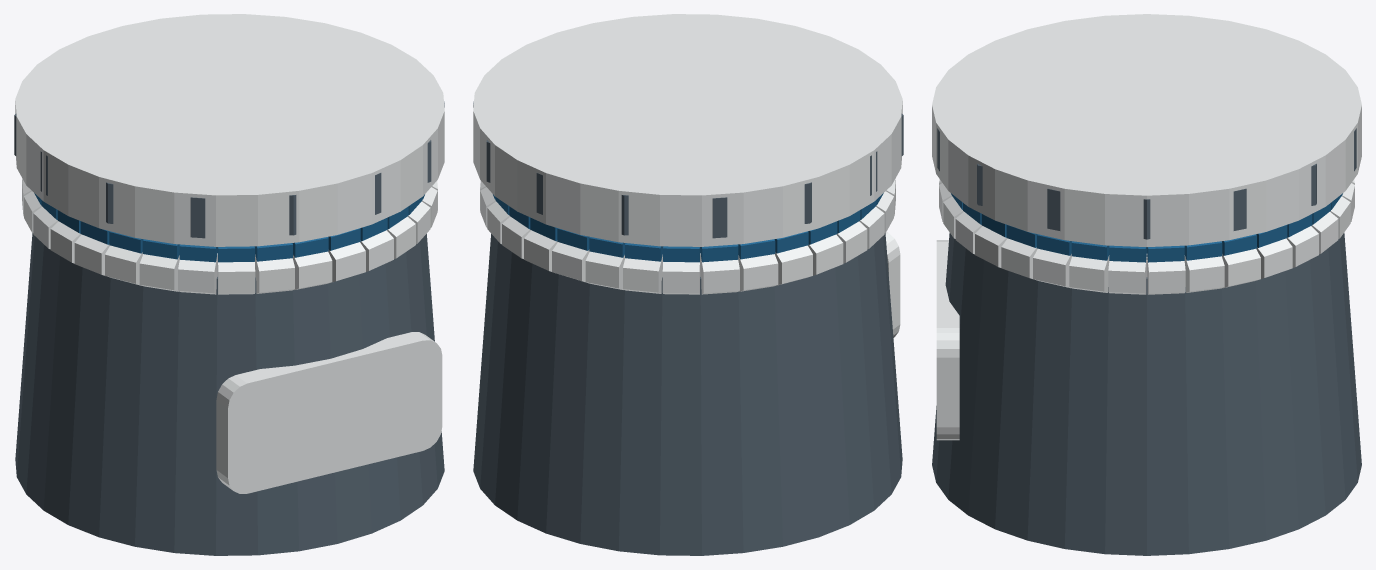
File: sealjar.glb
3 views of the same model, side by side, from view 1: azimuth 30°, elevation 25°; view 2: azimuth 150°, elevation 25°; view 3: azimuth 270°, elevation 25° (orthographic).
Parts seen in each view (by area): view 1: jar base, lid, label, shoulder11, shoulder9, shoulder12, shoulder10, shoulder8, shoulder13, shoulder7, shoulder14, shoulder6 (+10 smaller); view 2: jar base, lid, shoulder20, shoulder22, shoulder19, shoulder21, shoulder23, shoulder18, label, shoulder24, shoulder17, shoulder25 (+10 smaller); view 3: jar base, lid, label, shoulder1, shoulder30, shoulder0, shoulder31, shoulder2, shoulder29, shoulder3, shoulder28, shoulder4 (+11 smaller).
Part boxes in pixels (bbox=[...]): jar base: bbox=[15, 233, 444, 555]; lid: bbox=[15, 14, 444, 246]; label: bbox=[216, 332, 442, 493]; shoulder11: bbox=[178, 254, 217, 294]; shoulder9: bbox=[255, 254, 294, 293]; shoulder12: bbox=[139, 254, 179, 291]; shoulder10: bbox=[217, 253, 255, 294]; shoulder8: bbox=[292, 251, 332, 289]; shoulder13: bbox=[105, 245, 143, 285]; shoulder7: bbox=[328, 242, 365, 283]; shoulder14: bbox=[74, 234, 109, 275]; shoulder6: bbox=[360, 230, 393, 271]; jar base: bbox=[473, 233, 902, 555]; lid: bbox=[473, 14, 902, 246]; shoulder20: bbox=[700, 254, 739, 294]; shoulder22: bbox=[623, 254, 662, 293]; shoulder19: bbox=[738, 254, 778, 291]; shoulder21: bbox=[662, 253, 700, 294]; shoulder23: bbox=[585, 251, 625, 289]; shoulder18: bbox=[774, 245, 812, 285]; label: bbox=[885, 232, 900, 337]; shoulder24: bbox=[552, 242, 589, 283]; shoulder17: bbox=[808, 234, 843, 275]; shoulder25: bbox=[524, 230, 557, 271]; jar base: bbox=[932, 233, 1361, 555]; lid: bbox=[932, 14, 1361, 246]; label: bbox=[936, 240, 959, 440]; shoulder1: bbox=[1069, 255, 1109, 292]; shoulder30: bbox=[1184, 255, 1224, 292]; shoulder0: bbox=[1108, 254, 1146, 294]; shoulder31: bbox=[1147, 254, 1185, 294]; shoulder2: bbox=[1033, 248, 1071, 288]; shoulder29: bbox=[1222, 248, 1260, 288]; shoulder3: bbox=[1001, 238, 1037, 278]; shoulder28: bbox=[1256, 238, 1292, 278]; shoulder4: bbox=[975, 226, 1007, 267].
Size of the model in its own units: 1.06 by 0.98 by 1.06.
